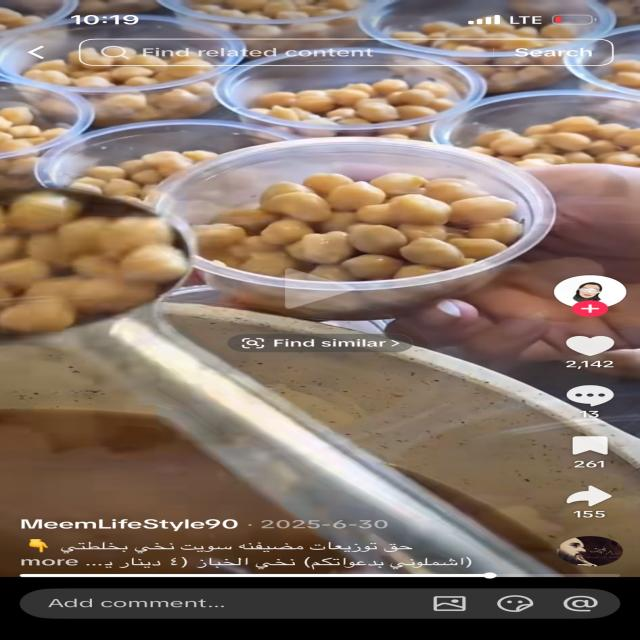Nakhi: (0, 0, 640, 339)
